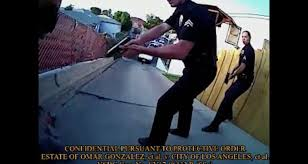pistol: (104, 34, 134, 60), (223, 70, 233, 83)
